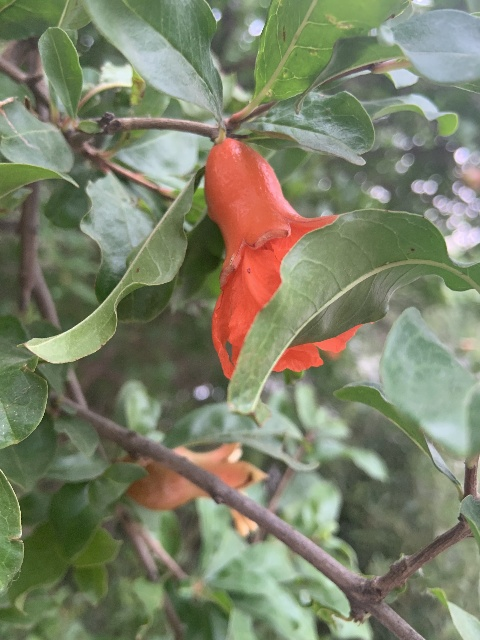early-fruit: (124, 442, 270, 536)
flower: (203, 137, 365, 377)
